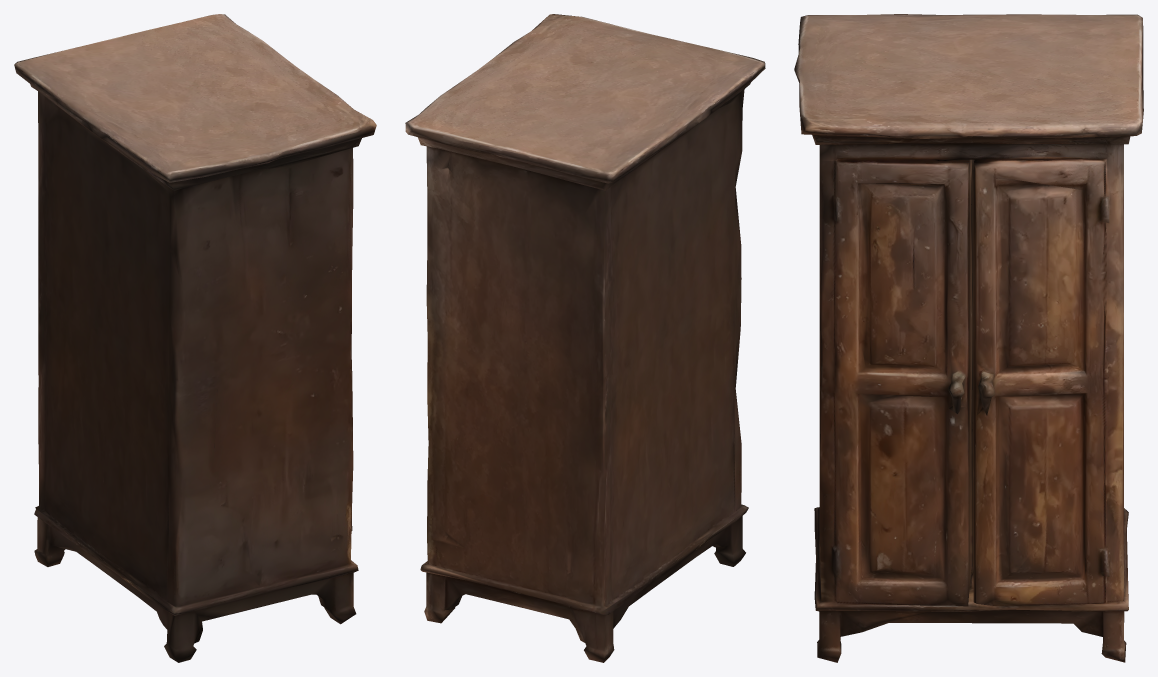
File: kh_wardrobe.glb
3 views of the same model, side by side, from view 1: azimuth 30°, elevation 25°; view 2: azimuth 150°, elevation 25°; view 3: azimuth 270°, elevation 25° (orthographic). The views are drawn at different scales.
Visible parts, largest first — view 1: tripo_node_48a58593-344b-4983-9043-b1bdd6a4dde0; view 2: tripo_node_48a58593-344b-4983-9043-b1bdd6a4dde0; view 3: tripo_node_48a58593-344b-4983-9043-b1bdd6a4dde0.
Boxes of the visible parts, x1,y1,x2,y2 form: tripo_node_48a58593-344b-4983-9043-b1bdd6a4dde0: (14, 14, 376, 662); tripo_node_48a58593-344b-4983-9043-b1bdd6a4dde0: (405, 14, 765, 662); tripo_node_48a58593-344b-4983-9043-b1bdd6a4dde0: (794, 14, 1143, 662).
Size of the model in its own units: 0.4691 by 1 by 0.5791.
1 material, 1 textured.
